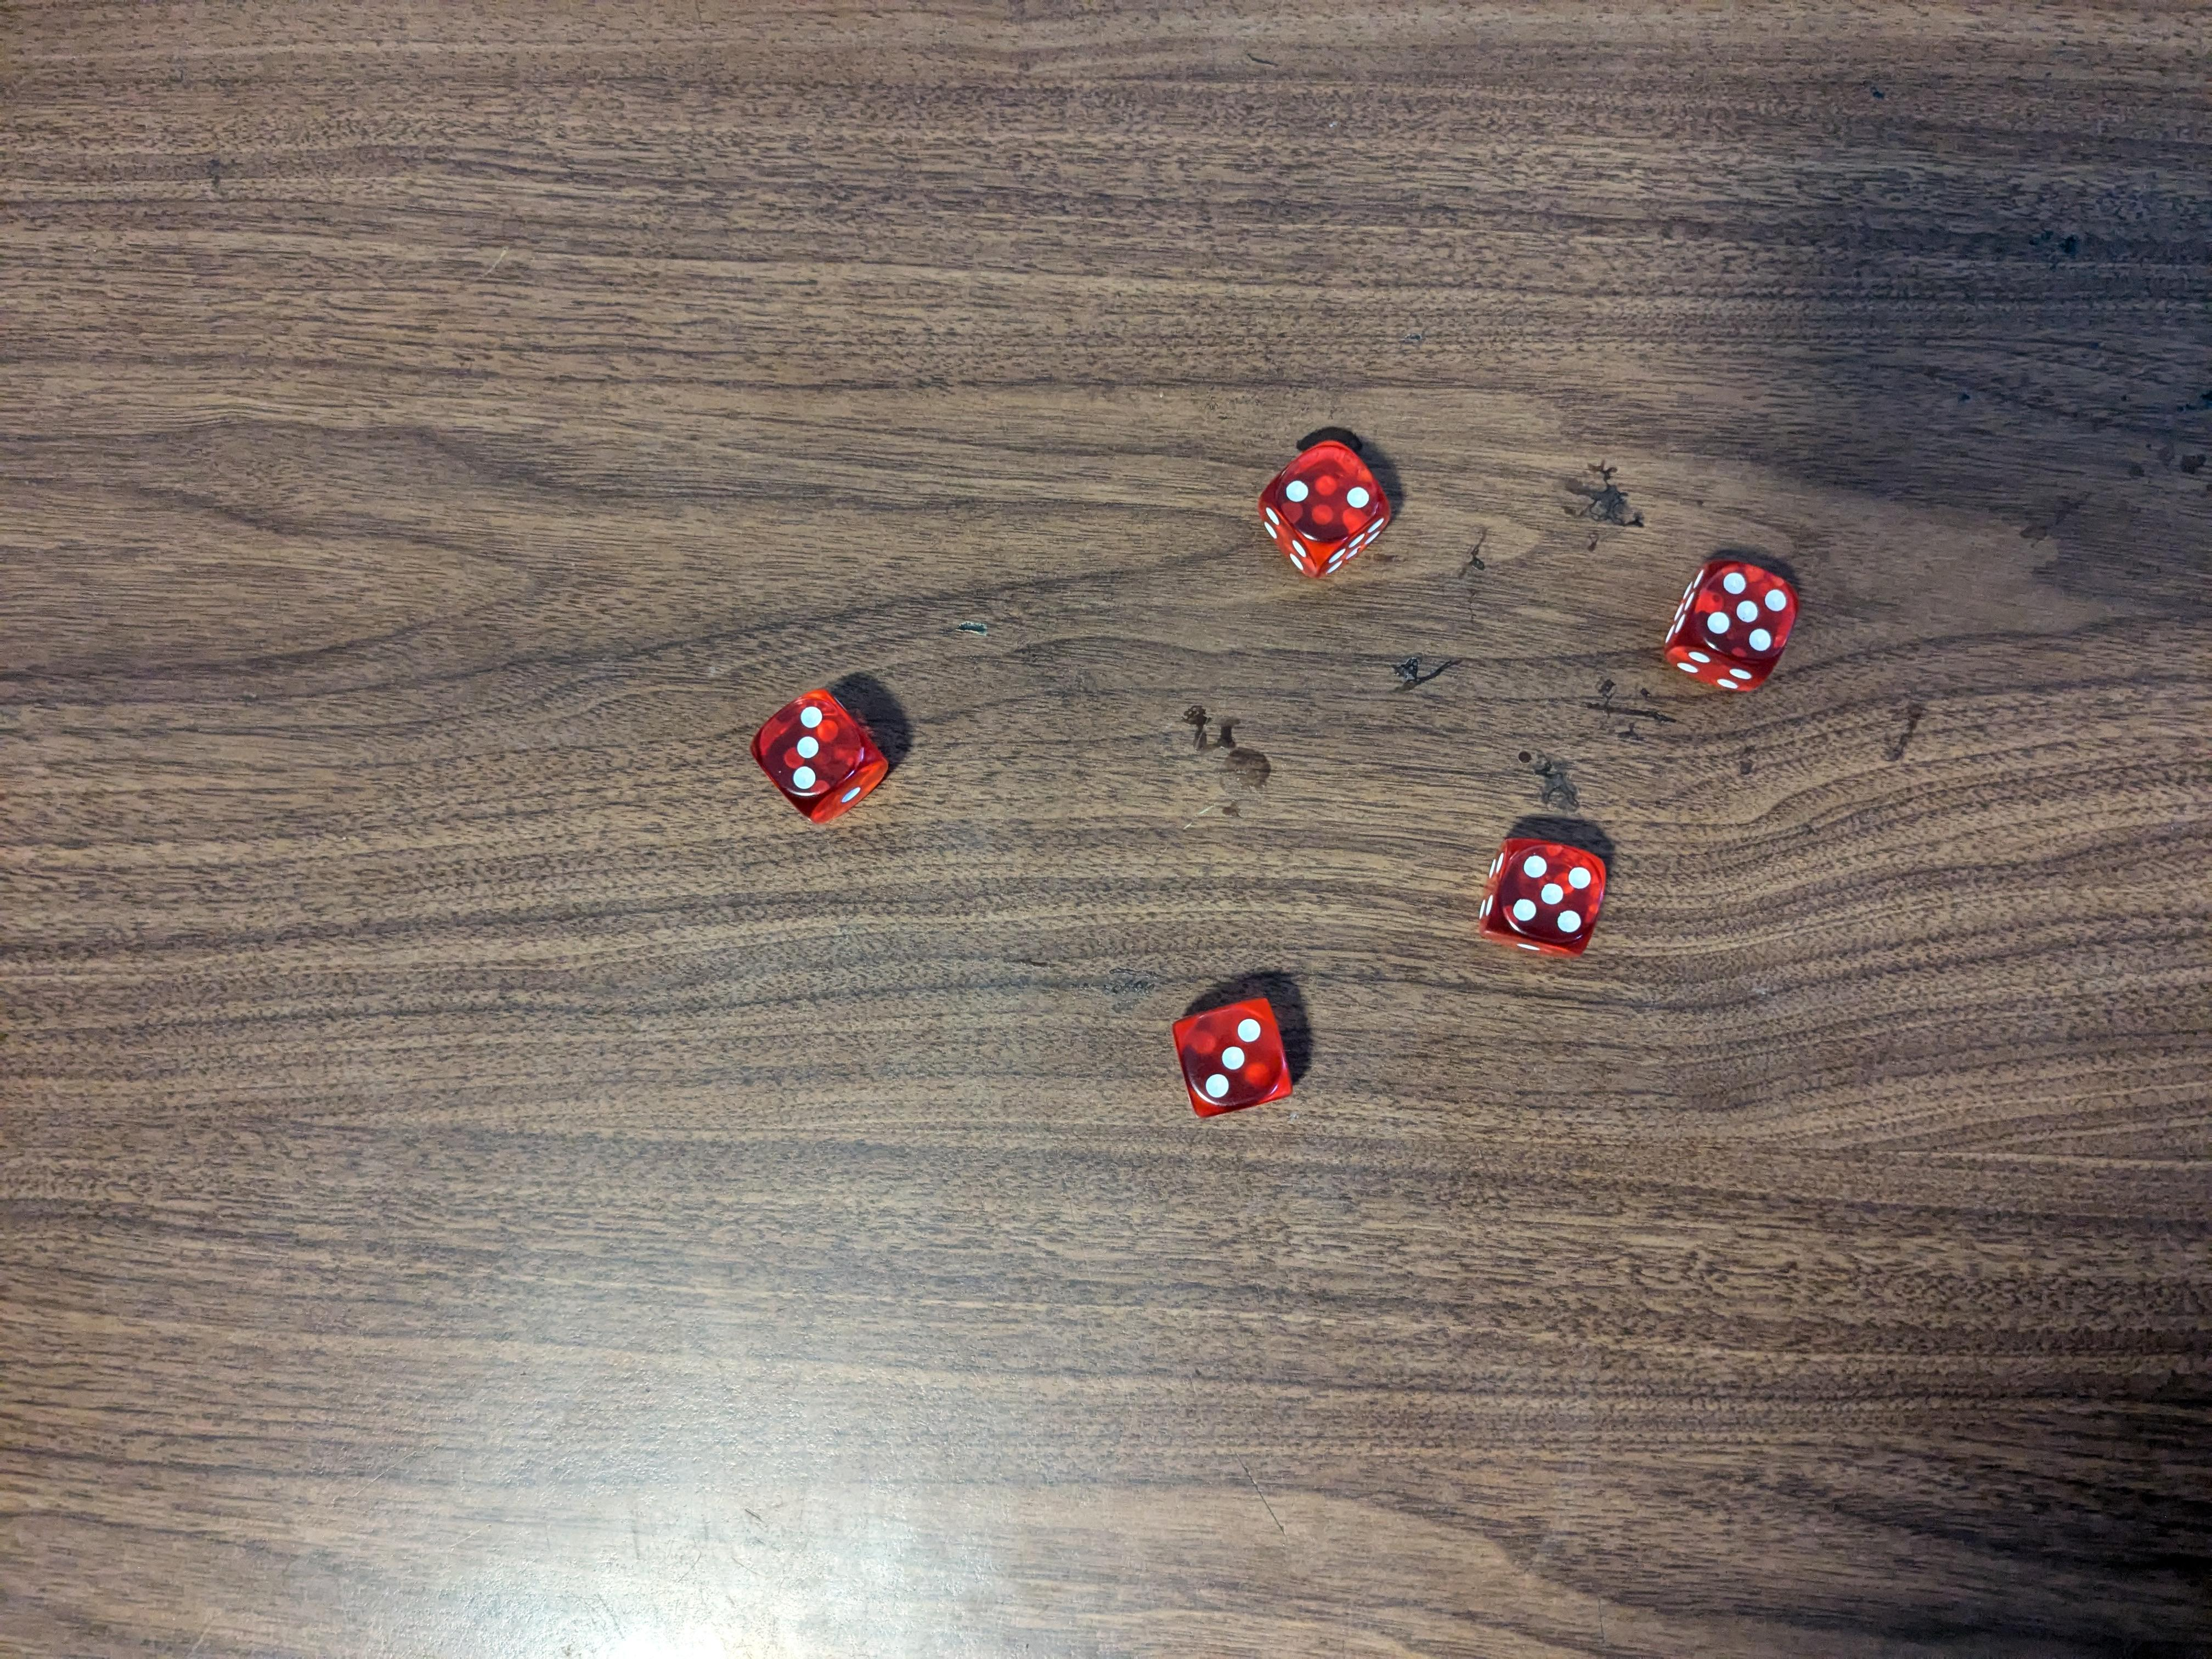five: (1663, 544, 1808, 702), (1477, 836, 1611, 955)
three: (747, 685, 892, 819), (1177, 997, 1296, 1119)
two: (1258, 434, 1395, 587)
